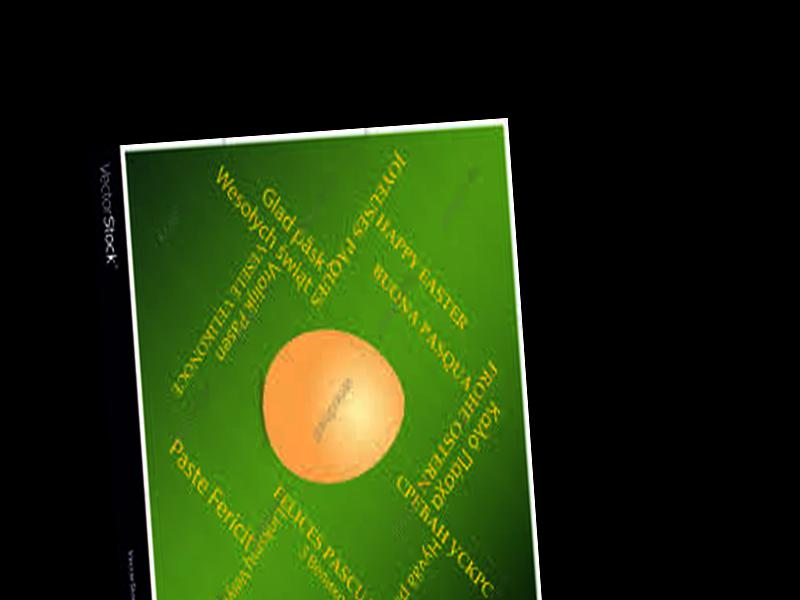Eggs: (258, 326, 406, 488)
